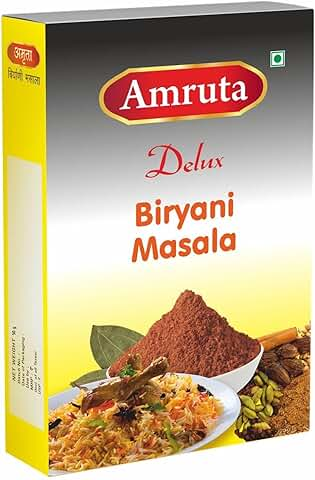Biryani: (4, 11, 315, 480)
